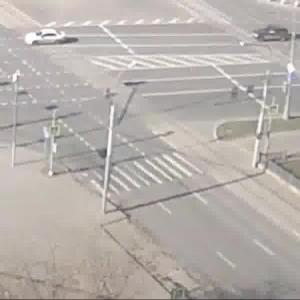car: (27, 31, 81, 49), (251, 27, 290, 46)
